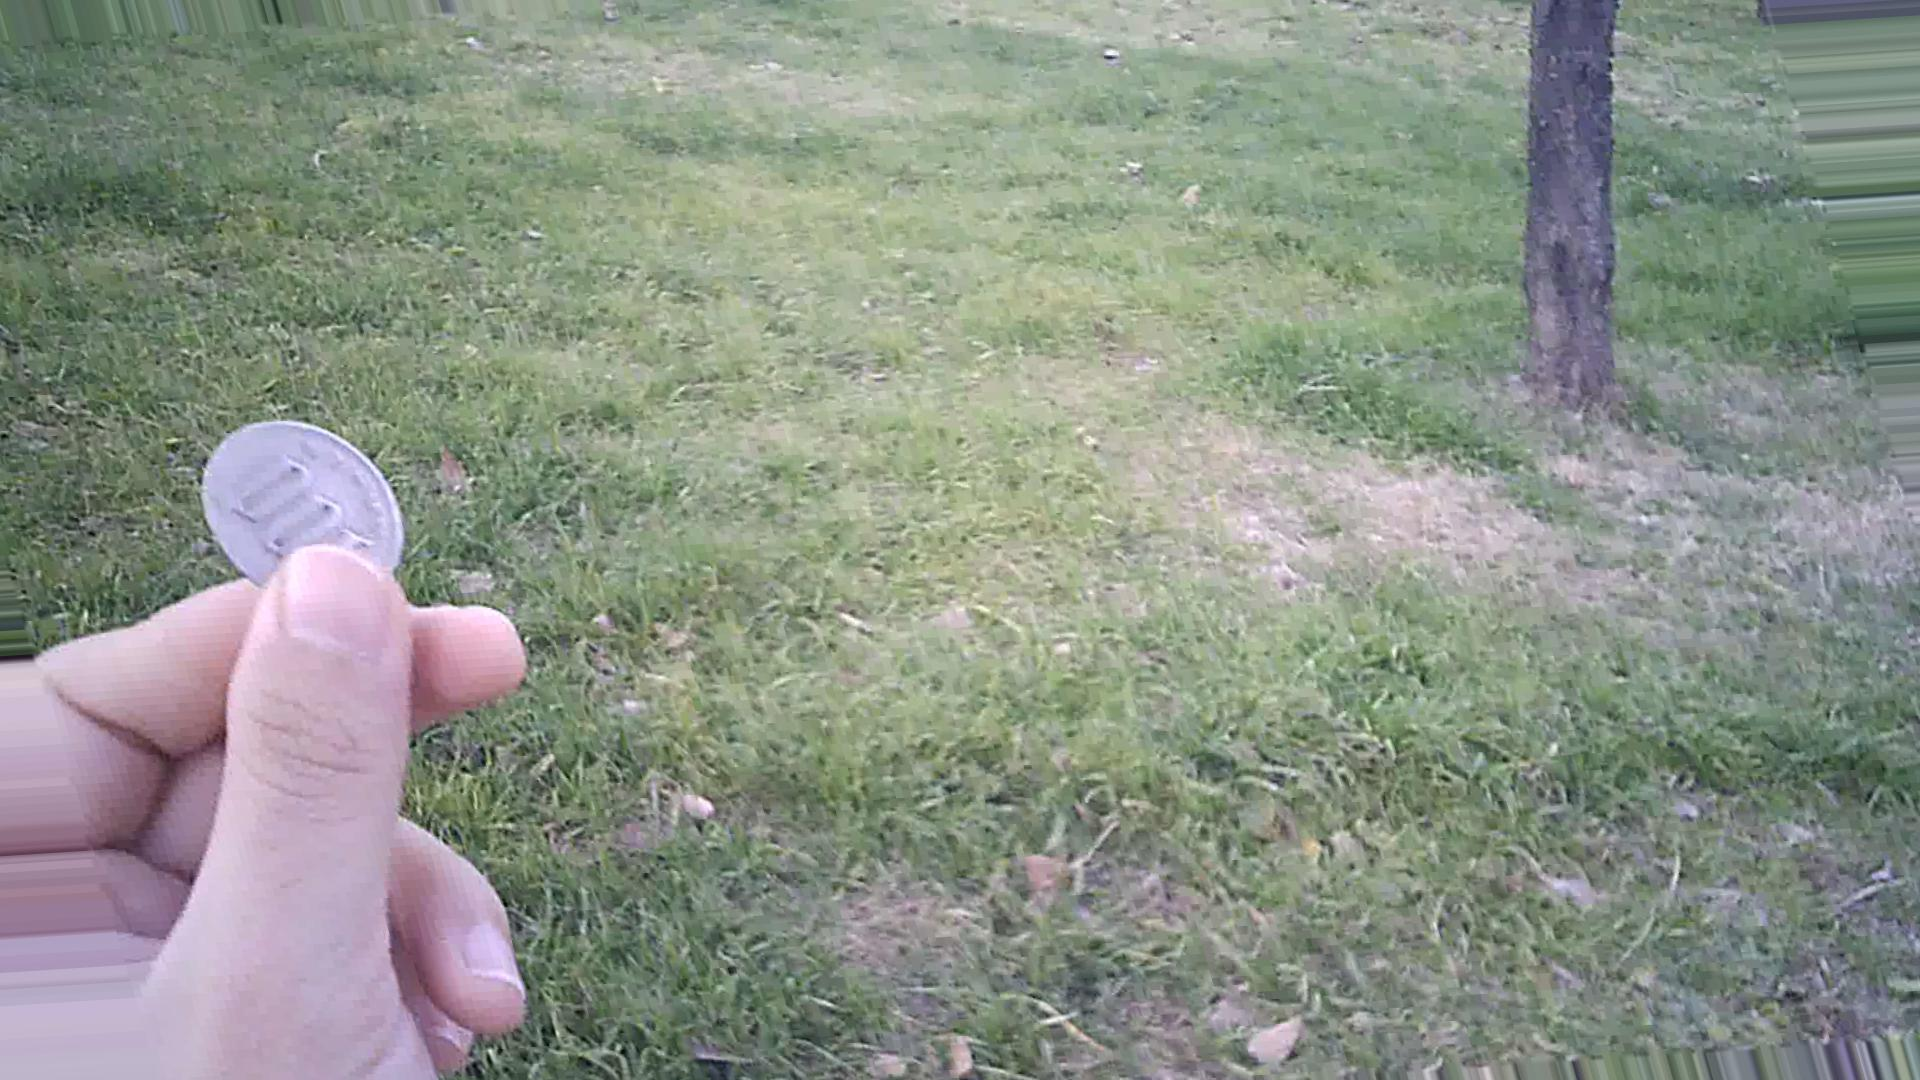100 Yen: (181, 409, 394, 603)
